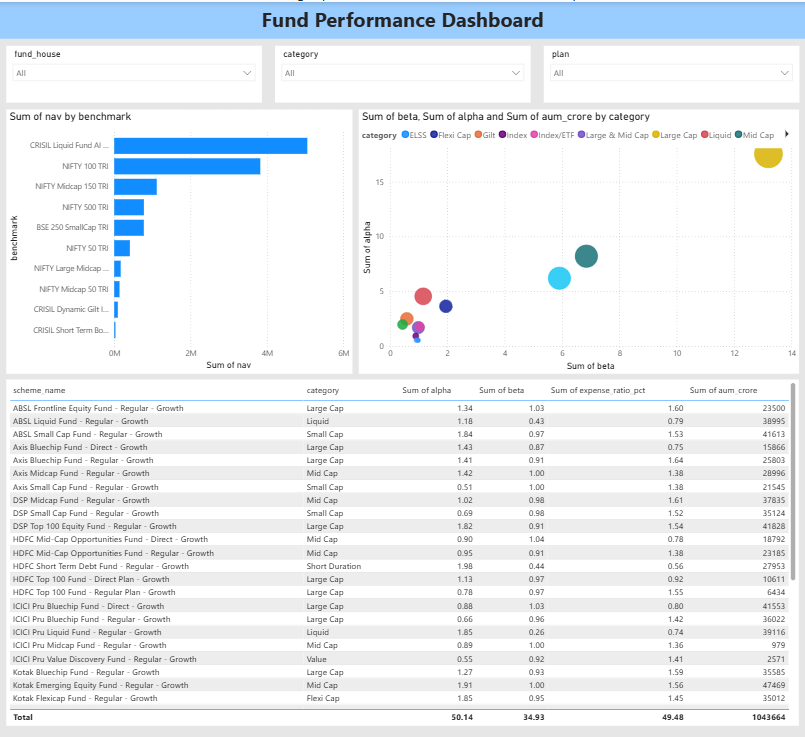

What the dashboard file says about the page in this screenshot:
{"tool":"powerbi","page":{"name":"Page 2","canvas":[1280,1170],"ordinal":1},"visuals":[{"type":"slicer","fields":{"Values":["01_fund_master_clean.fund_house"]},"box":[10,70,406,90],"z":0},{"type":"slicer","fields":{"Values":["01_fund_master_clean.category"]},"box":[437,70,406,90],"z":1000},{"type":"slicer","fields":{"Values":["01_fund_master_clean.plan"]},"box":[864,70,406,90],"z":2000},{"type":"scatterChart","fields":{"X":["Sum(07_scheme_performance_clean.beta)"],"Y":["Sum(07_scheme_performance_clean.alpha)"],"Size":["Sum(07_scheme_performance_clean.aum_crore)"],"Series":["07_scheme_performance_clean.category"]},"box":[570,170,700,420],"z":3000},{"type":"clusteredBarChart","fields":{"Category":["01_fund_master_clean.benchmark"],"Y":["Sum(02_nav_history_clean.nav)"]},"box":[10,170,550,420],"z":4000},{"type":"tableEx","fields":{"Values":["07_scheme_performance_clean.scheme_name","07_scheme_performance_clean.category","Sum(07_scheme_performance_clean.alpha)","Sum(07_scheme_performance_clean.beta)","Sum(07_scheme_performance_clean.expense_ratio_pct)","Sum(07_scheme_performance_clean.aum_crore)"]},"box":[10,600,1260,550],"z":5000},{"type":"textbox","box":[0,0,1280.3,58.7],"z":6000}]}

Visuals, with their boxes in screenshot pixels (x1, y1, x2, y2), scaled from the page's 1280x1170 canvas onto the 805x737 screenshot:
slicer - 01_fund_master_clean.fund_house: {"left": 6, "top": 44, "right": 262, "bottom": 101}
slicer - 01_fund_master_clean.category: {"left": 275, "top": 44, "right": 530, "bottom": 101}
slicer - 01_fund_master_clean.plan: {"left": 543, "top": 44, "right": 799, "bottom": 101}
scatterChart - Sum(07_scheme_performance_clean.beta) x Sum(07_scheme_performance_clean.alpha): {"left": 358, "top": 107, "right": 799, "bottom": 372}
clusteredBarChart - 01_fund_master_clean.benchmark x Sum(02_nav_history_clean.nav): {"left": 6, "top": 107, "right": 352, "bottom": 372}
tableEx - 07_scheme_performance_clean.scheme_name x 07_scheme_performance_clean.category: {"left": 6, "top": 378, "right": 799, "bottom": 724}
textbox: {"left": 0, "top": 0, "right": 804, "bottom": 37}
